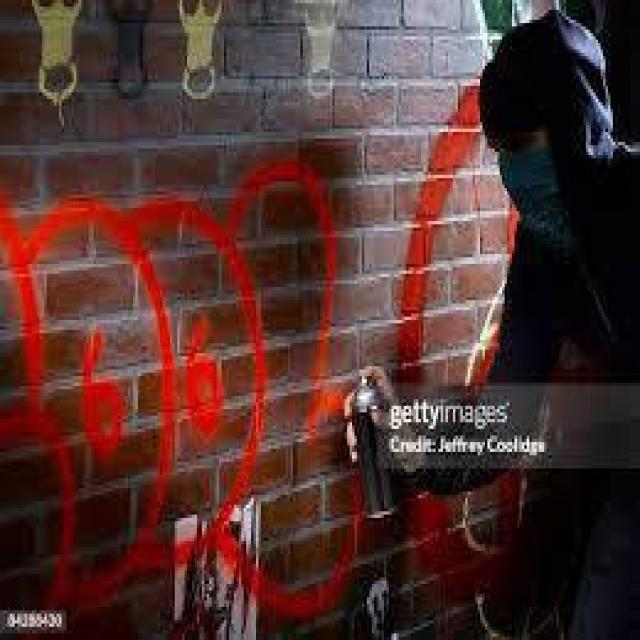nonspitting: (0, 155, 362, 612), (399, 82, 517, 556), (32, 0, 339, 102)
